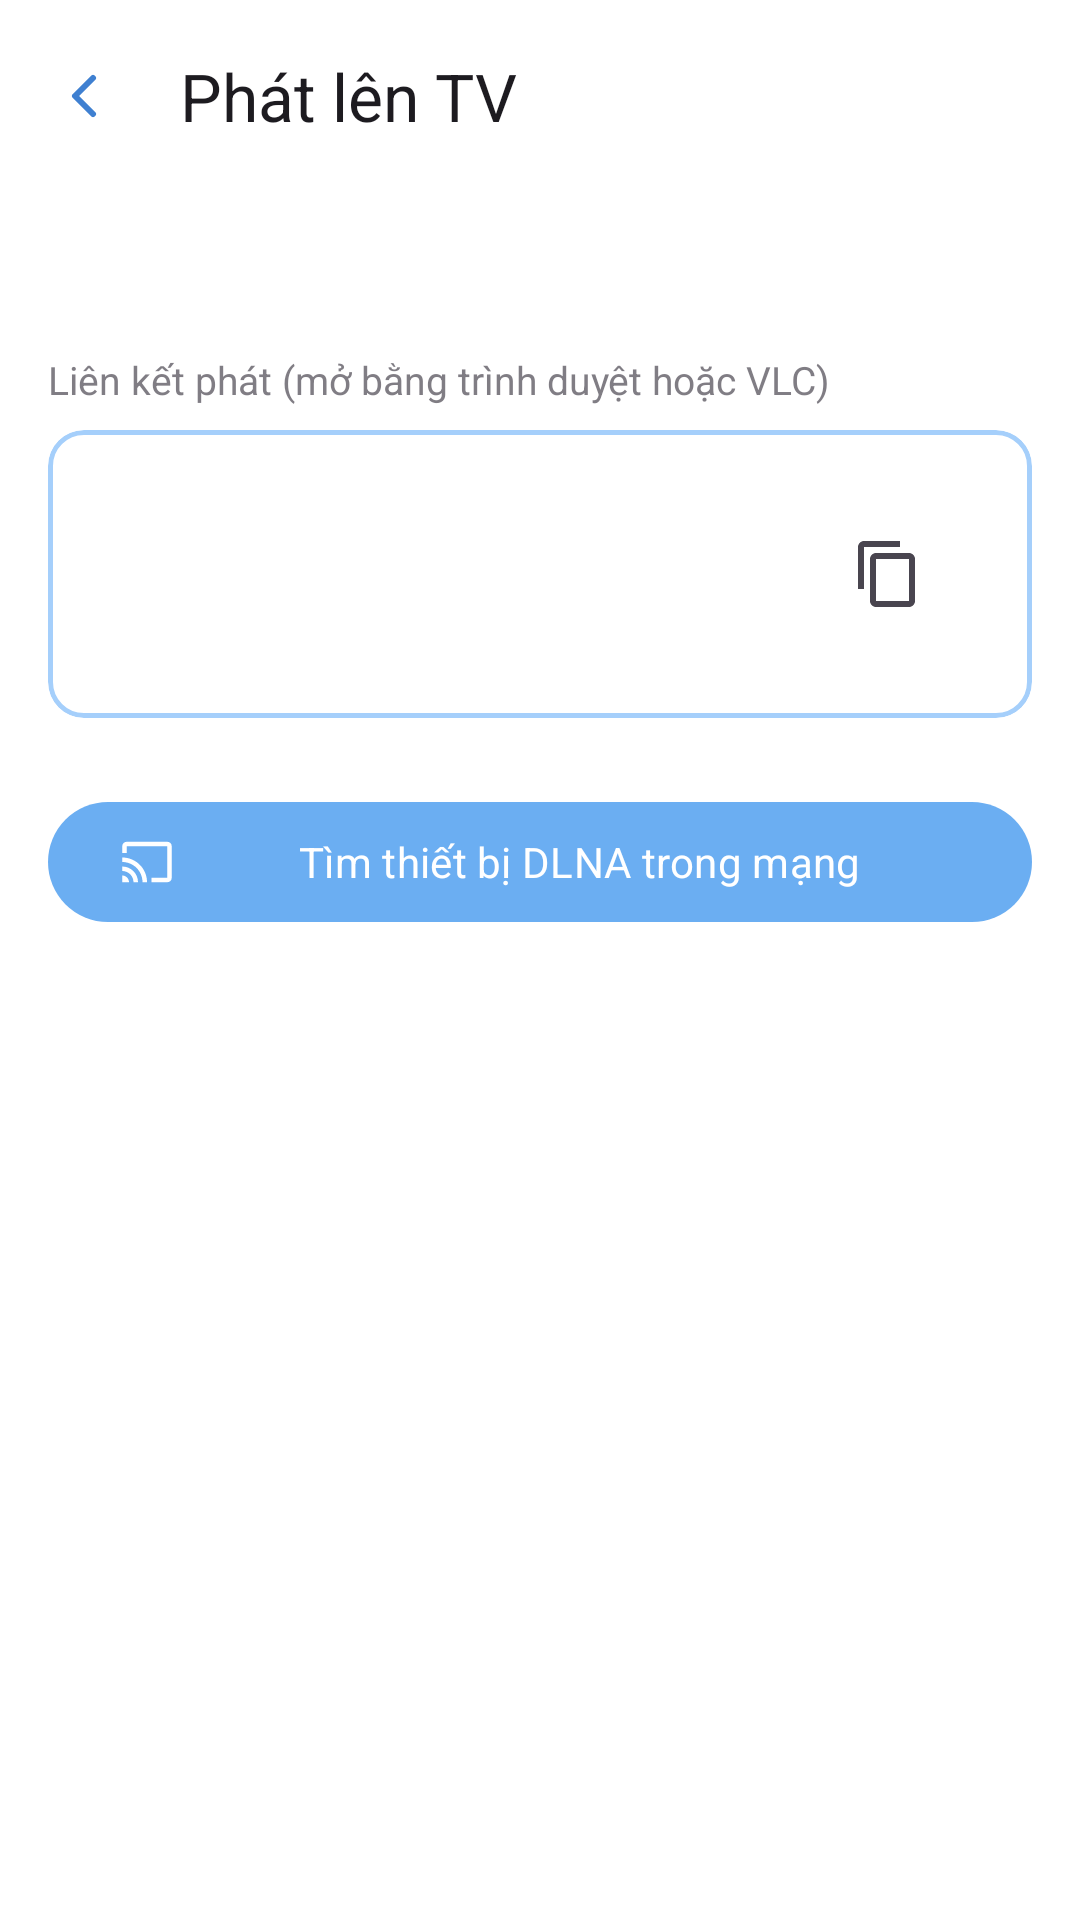

Named icons in this screenshot (1080px×1920px) and their centers, point (x, y):
Sao chép liên kết: point (886, 574)
